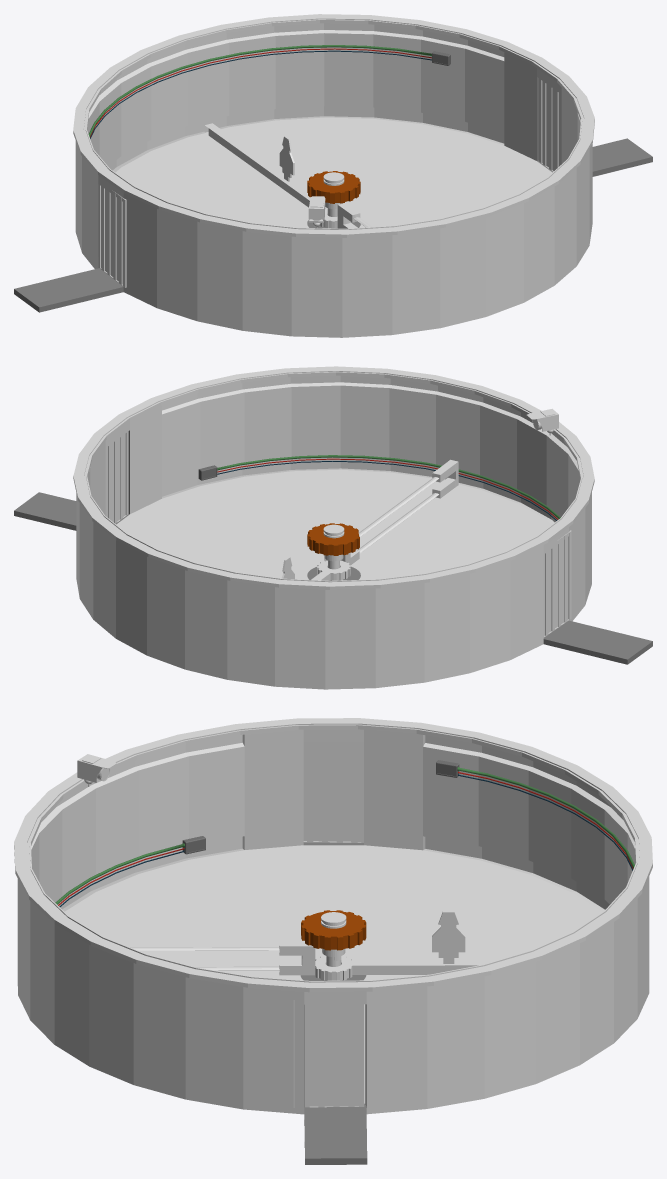
The model's file is Sala1_OK.fbx.
The picture shows the model from 3 angles, top to bottom: view 1: azimuth 30°, elevation 25°; view 2: azimuth 150°, elevation 25°; view 3: azimuth 270°, elevation 25°; orthographic projection. The views are drawn at different scales.
Visible parts, largest first — view 1: Sala, Rueda_Cuchillas, Cables1, Puerta1, Puerta2, engranaje, Camara1; view 2: Sala, Rueda_Cuchillas, Puerta1, Cables2, Puerta2, engranaje, Camara1; view 3: Sala, Puerta2, Puerta1, Rueda_Cuchillas, engranaje, Cables1, Cables2, Camara1, Cuerpo.
Part boxes in pixels (<box>): Sala: <box>14,14,652,337</box>; Rueda_Cuchillas: <box>204,123,372,228</box>; Cables1: <box>88,45,450,138</box>; Puerta1: <box>99,184,126,287</box>; Puerta2: <box>539,78,561,171</box>; engranaje: <box>307,171,360,203</box>; Camara1: <box>308,196,325,228</box>; Sala: <box>14,366,652,689</box>; Rueda_Cuchillas: <box>311,459,458,580</box>; Puerta1: <box>543,530,571,637</box>; Cables2: <box>198,455,560,520</box>; Puerta2: <box>105,431,128,523</box>; engranaje: <box>307,523,359,555</box>; Camara1: <box>526,408,558,435</box>; Sala: <box>14,718,652,1164</box>; Puerta2: <box>293,1000,364,1107</box>; Puerta1: <box>303,741,363,842</box>; Rueda_Cuchillas: <box>130,912,495,980</box>; engranaje: <box>301,910,366,950</box>; Cables1: <box>436,760,634,870</box>; Cables2: <box>55,836,205,906</box>; Camara1: <box>77,754,117,786</box>; Cuerpo: <box>432,935,465,963</box>.
Size of the model in its own units: 272 by 52.69 by 200.
